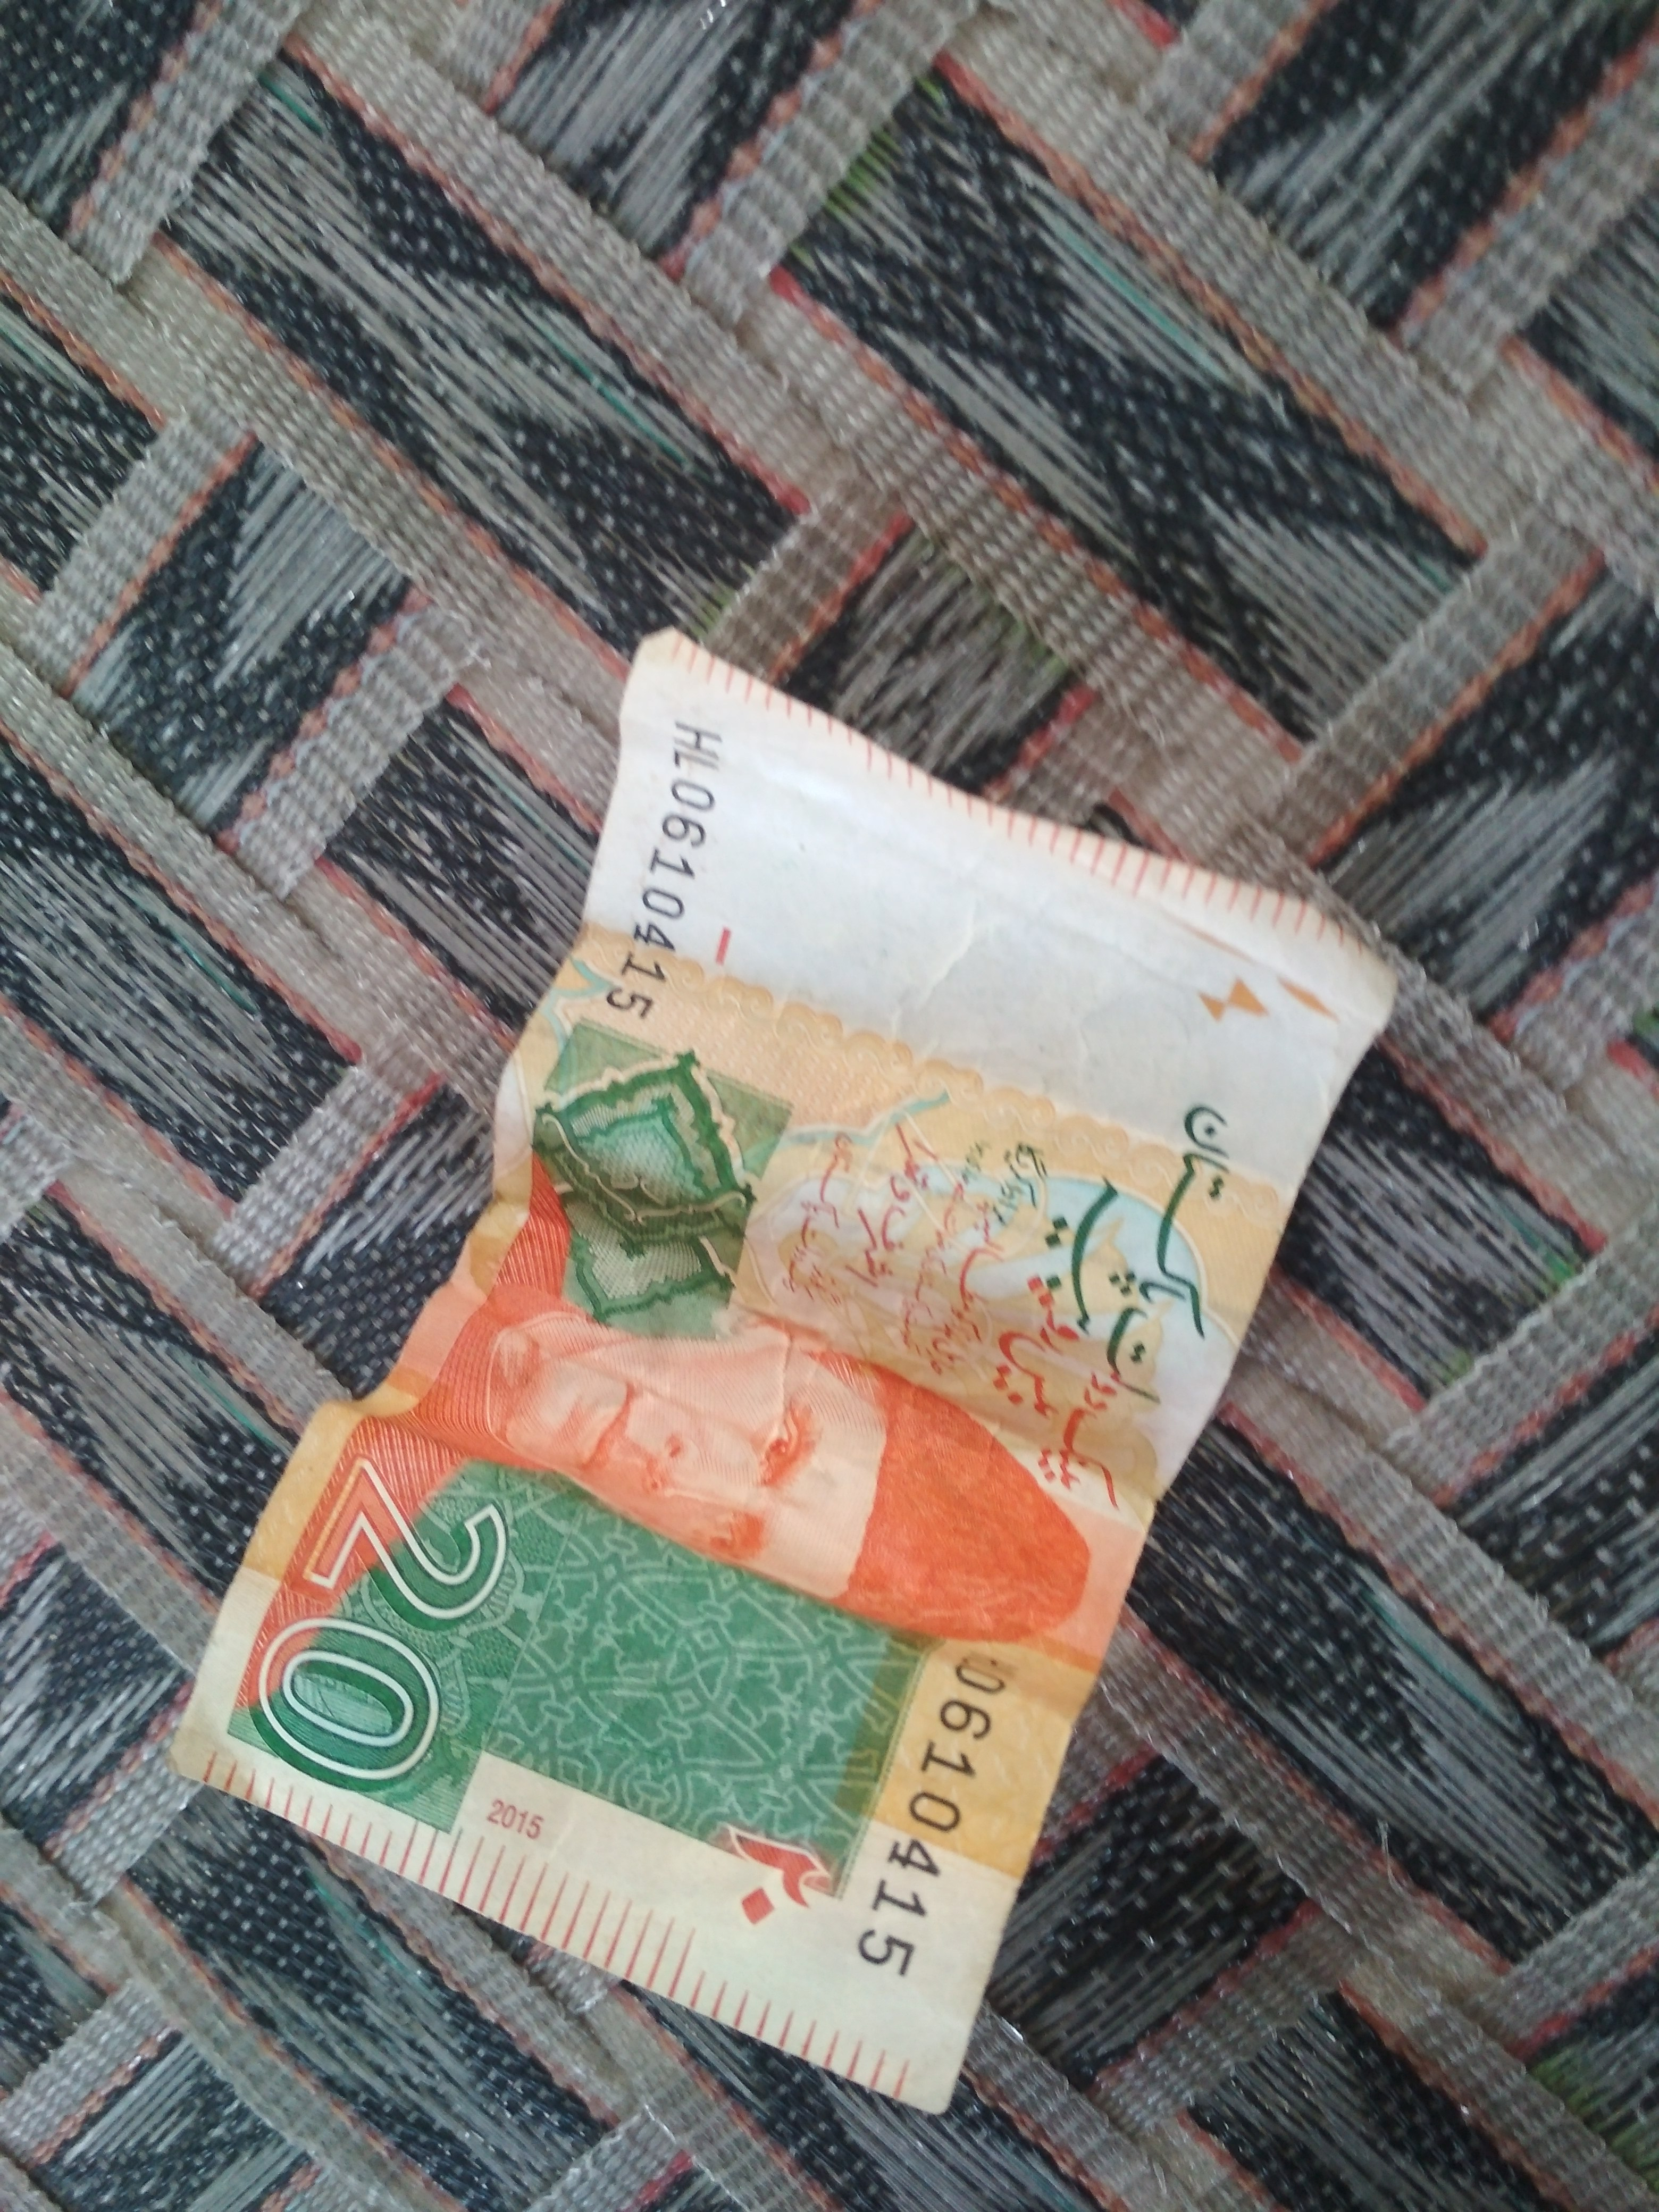20 rupee: (129, 611, 1511, 2141)
